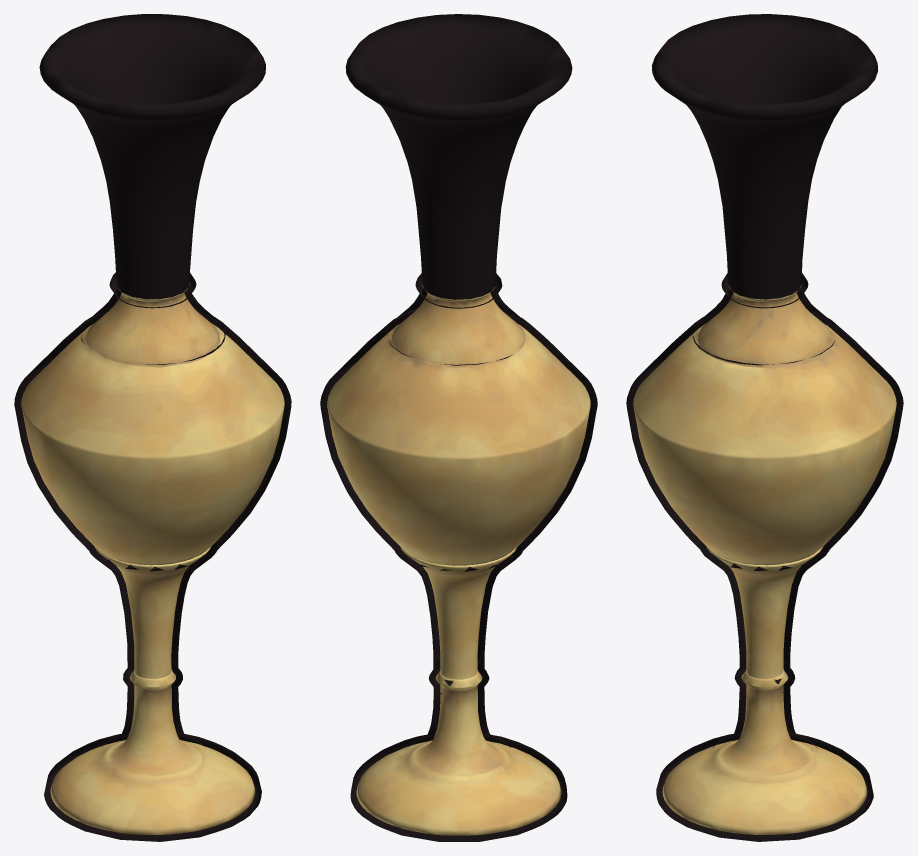
Rendered from SM_Int_VaseC.fbx.
The picture shows the model from 3 angles, left to right: view 1: azimuth 30°, elevation 25°; view 2: azimuth 150°, elevation 25°; view 3: azimuth 270°, elevation 25°; orthographic projection.
Visible parts, largest first — view 1: SM_Int_VaseC; view 2: SM_Int_VaseC; view 3: SM_Int_VaseC.
Part boxes in pixels (x1,y1,x2,y2): SM_Int_VaseC: (14,14,291,841); SM_Int_VaseC: (320,14,597,841); SM_Int_VaseC: (626,14,903,841).
Bounding box in the file's own units: 0.2394 × 0.704 × 0.2394.
